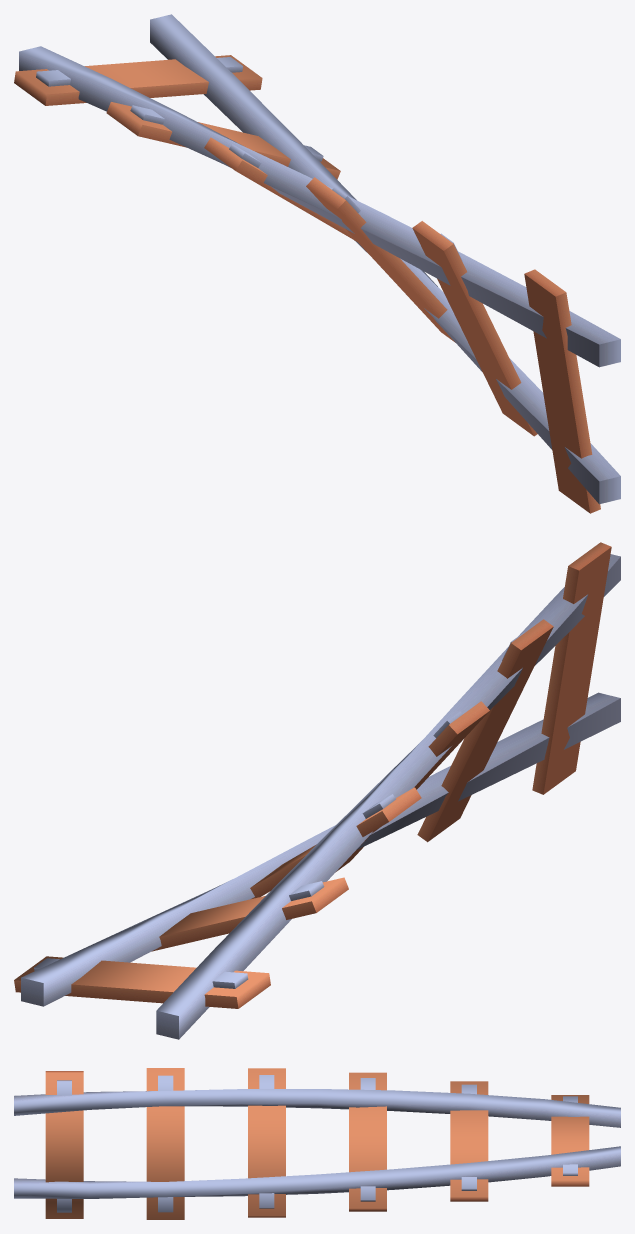
The model's file is kenney-train-railroad-straight-skew-left-side.glb.
The picture shows the model from 3 angles, top to bottom: view 1: azimuth 30°, elevation 25°; view 2: azimuth 150°, elevation 25°; view 3: azimuth 270°, elevation 25°; orthographic projection. The views are drawn at different scales.
Parts seen in each view (by area): view 1: railroad-straight-skew-left-side; view 2: railroad-straight-skew-left-side; view 3: railroad-straight-skew-left-side.
Boxes of the visible parts, x1,y1,x2,y2 form: railroad-straight-skew-left-side: [14, 14, 620, 513]; railroad-straight-skew-left-side: [14, 542, 620, 1039]; railroad-straight-skew-left-side: [14, 1068, 620, 1219].
Size of the model in its own units: 0.9951 by 0.9951 by 4.
Materials: 1 (1 with a texture image).
